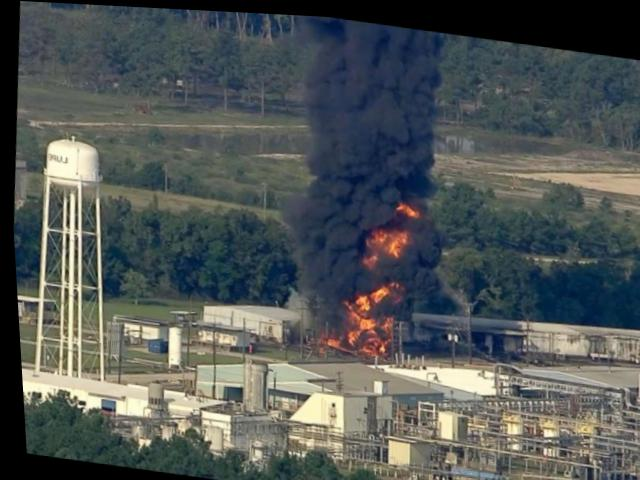fire: (364, 227, 403, 250), (362, 324, 386, 350), (338, 327, 357, 349), (351, 295, 365, 318), (369, 283, 385, 301)
smoke: (296, 12, 446, 199), (288, 216, 366, 291), (286, 186, 394, 227), (403, 213, 442, 265), (302, 286, 343, 334), (368, 251, 404, 278)
